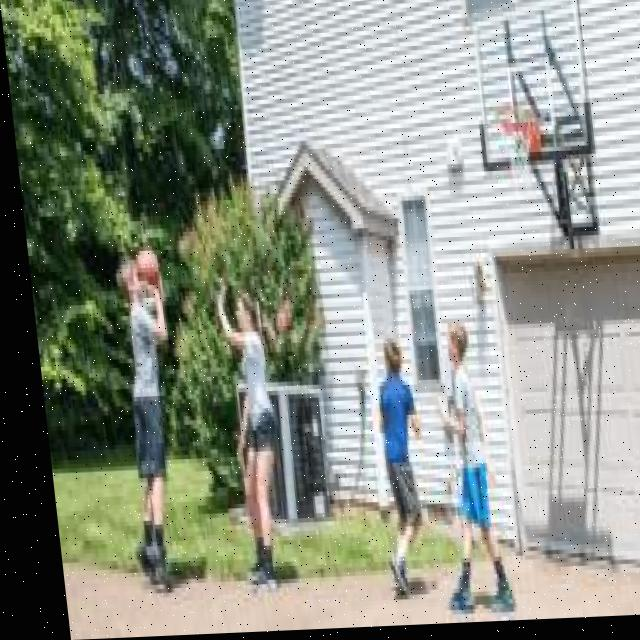basketball: (135, 250, 163, 293)
hoop: (498, 105, 545, 180)
